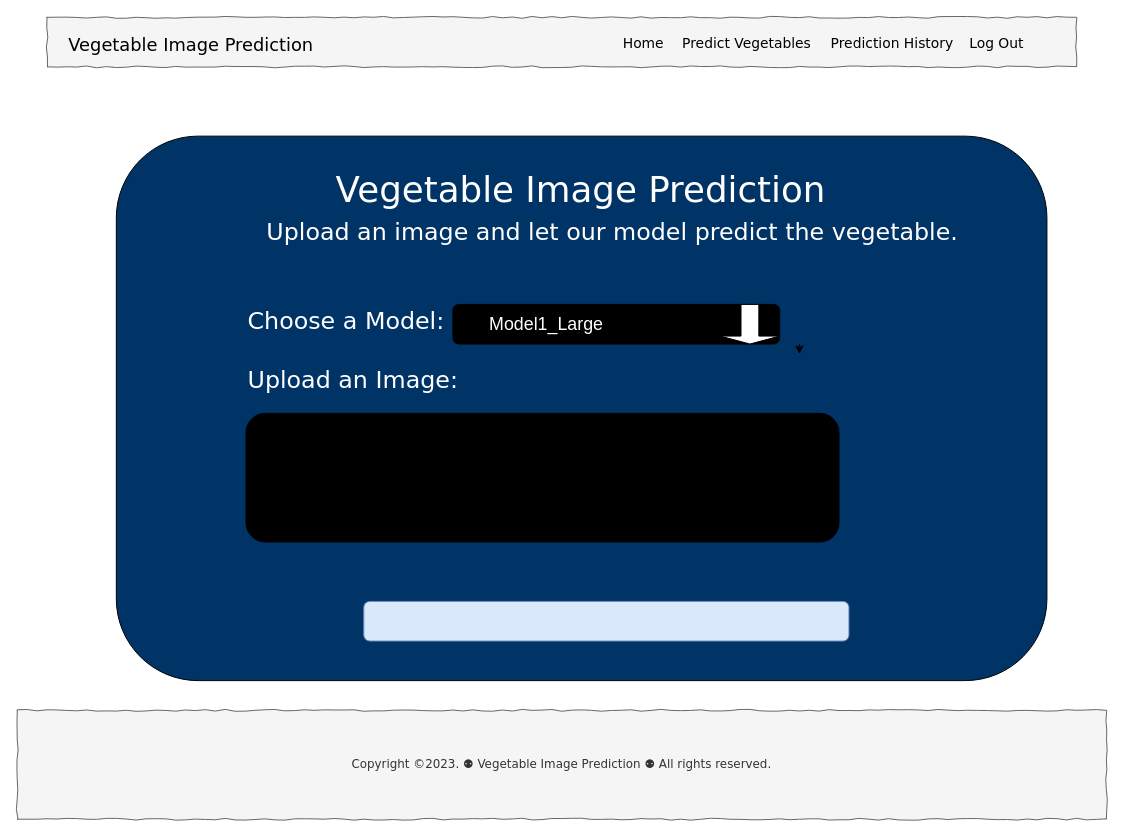
Some shapes in this 1124 by 837 pixel diagram are drawn without their labels. Here are the shapes that lost their labels. From the top down, the box of each, then its label:
(245, 412, 839, 542): Choose File
(363, 600, 849, 641): Predict
